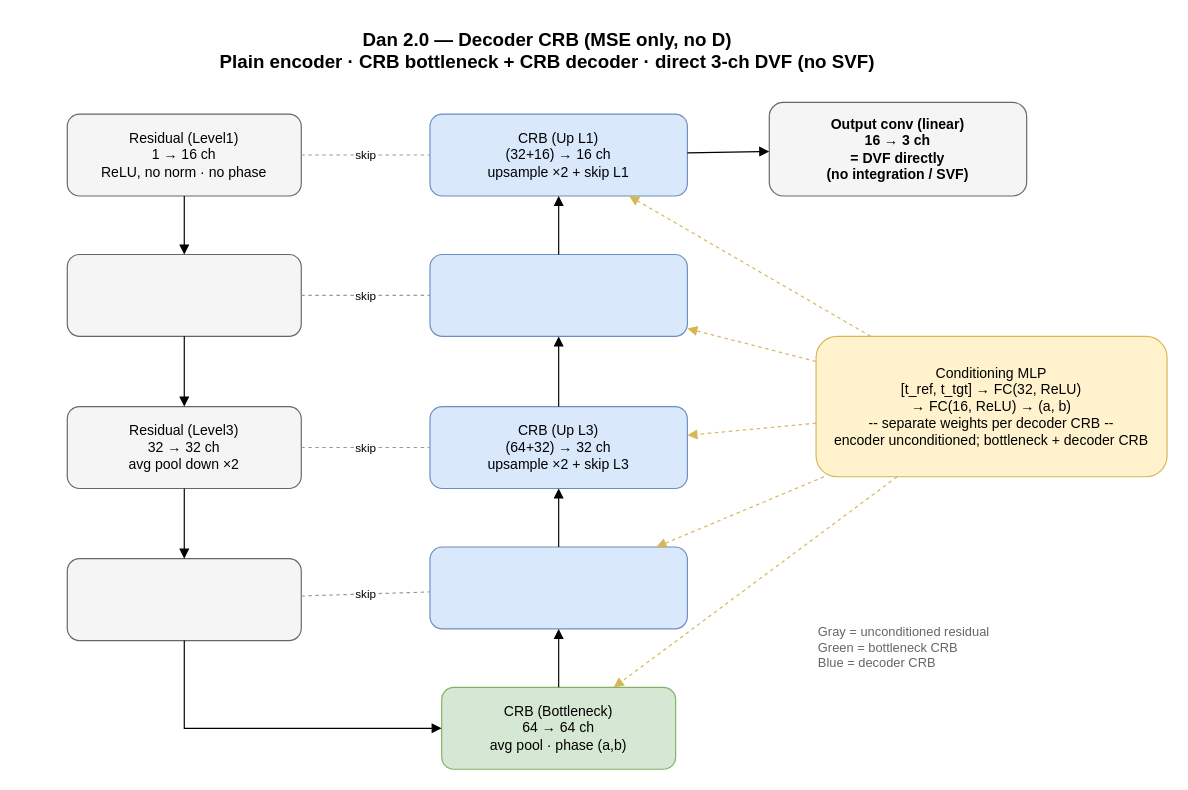
Some shapes in this 1188 by 790 pixel diagram are drawn without their labels. The centre of each missing label's shape, as x and y in pixels:
CRB (Up L2) (32+32) → 32 ch upsample ×2 + skip L2: pixel 558 294
CRB (Up L4) (64+64) → 64 ch upsample ×2 + skip L4: pixel 558 587
Residual (Level2) 16 → 32 ch avg pool down ×2: pixel 183 294
Residual (Level4) 32 → 64 ch avg pool down ×2: pixel 183 599
